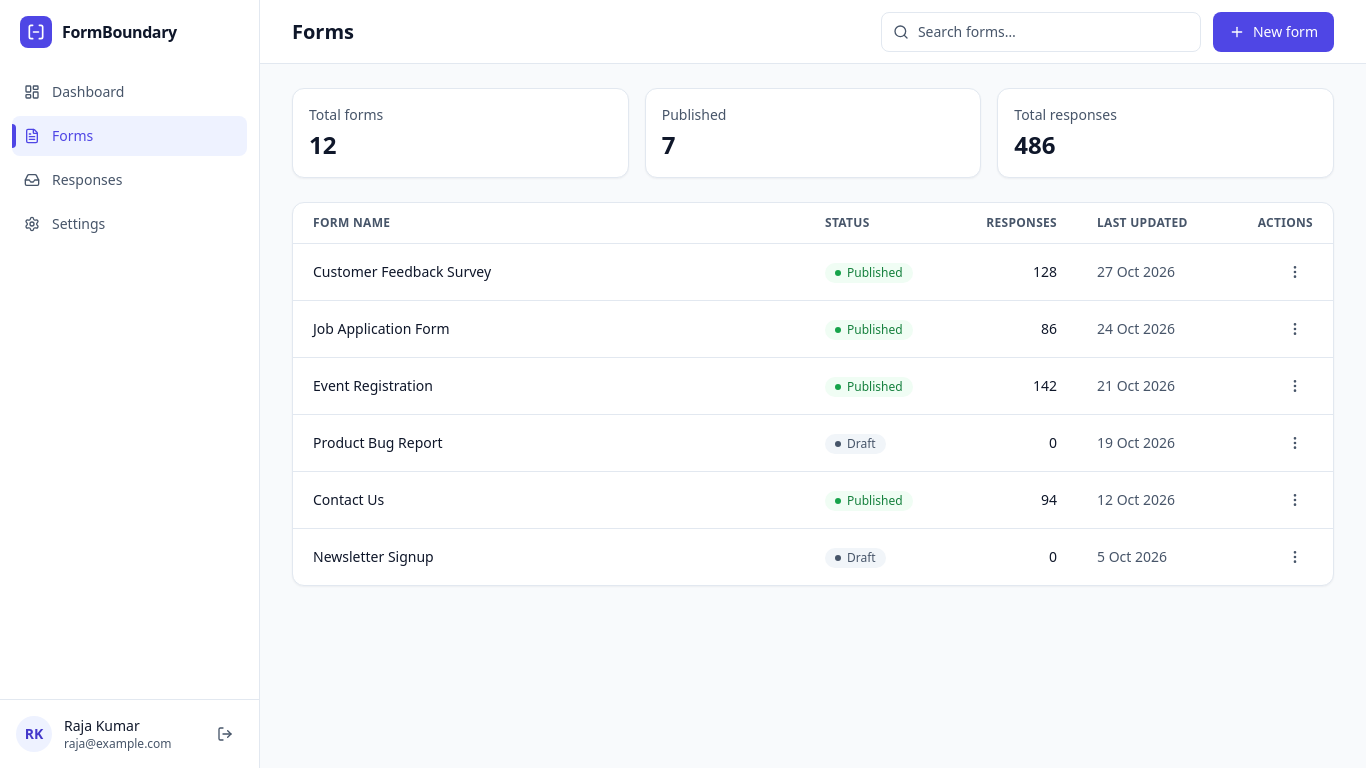
Test: logout › signs out and returns to the login page
Click the button named "Log out".
click(225, 734)  # box top-left (207, 716), bottom-right (243, 752)
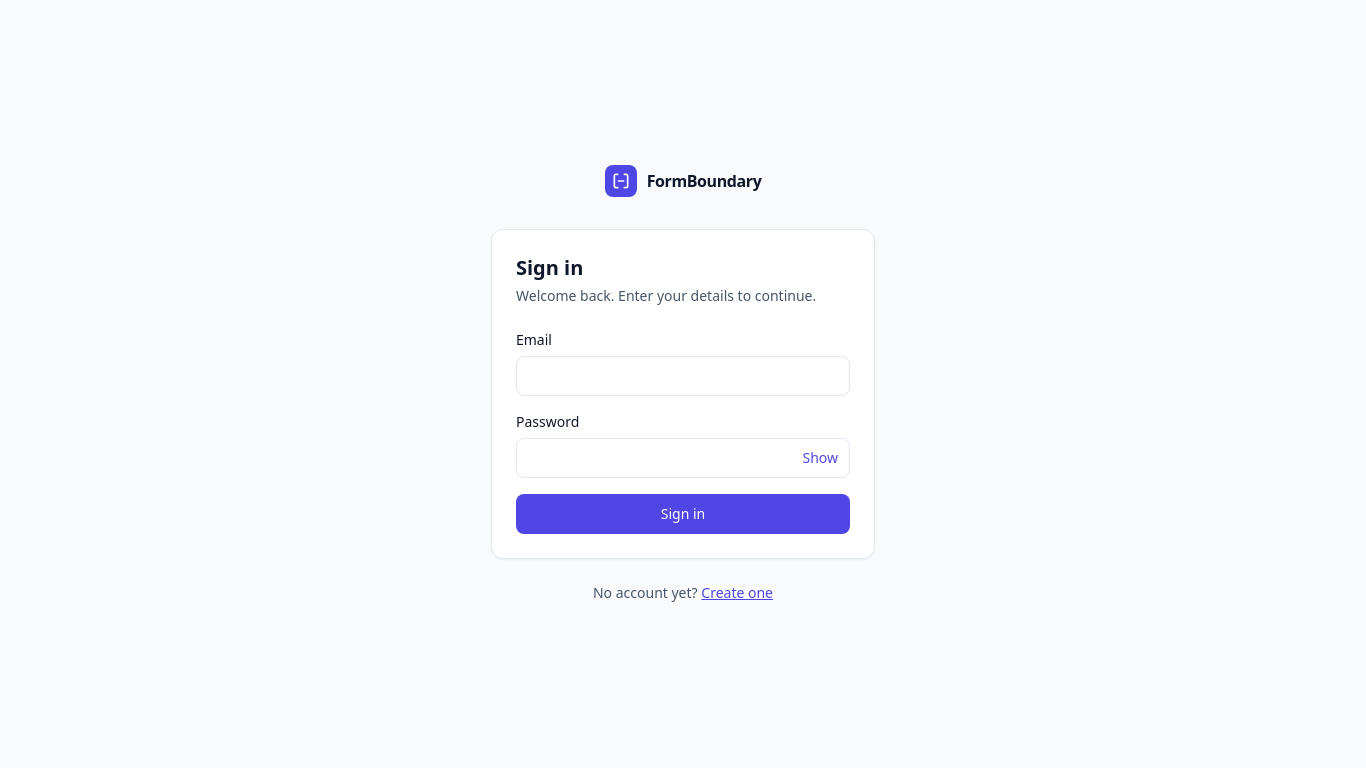
Expected: the heading "Sign in" is shown, top-left (516, 254), bottom-right (583, 281)
